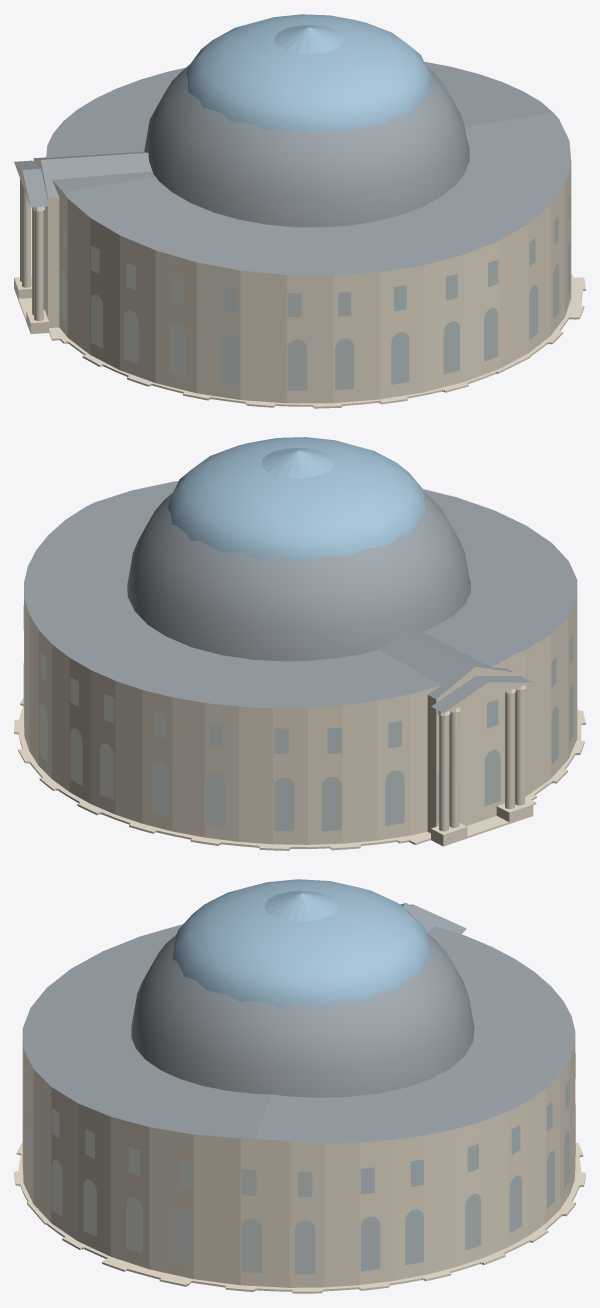
3 renders of one model, top to bottom at view 1: azimuth 30°, elevation 25°; view 2: azimuth 150°, elevation 25°; view 3: azimuth 270°, elevation 25°, orthographic. The views are drawn at different scales.
Visible parts, largest first — view 1: roof, stone, glass, window; view 2: roof, stone, glass, window; view 3: roof, stone, glass, window.
Part boxes in pixels (x1,y1,x2,y2): roof: (14,61,571,275); stone: (14,140,585,408); glass: (186,14,432,134); window: (43,192,570,390); roof: (24,481,577,712); stone: (14,577,585,850); glass: (167,437,426,561); window: (23,605,573,831); roof: (22,903,575,1143); stone: (14,930,585,1293); glass: (172,879,430,1008); window: (22,1053,575,1274).
Size of the model in its own units: 69.27 by 36.3 by 67.18.
